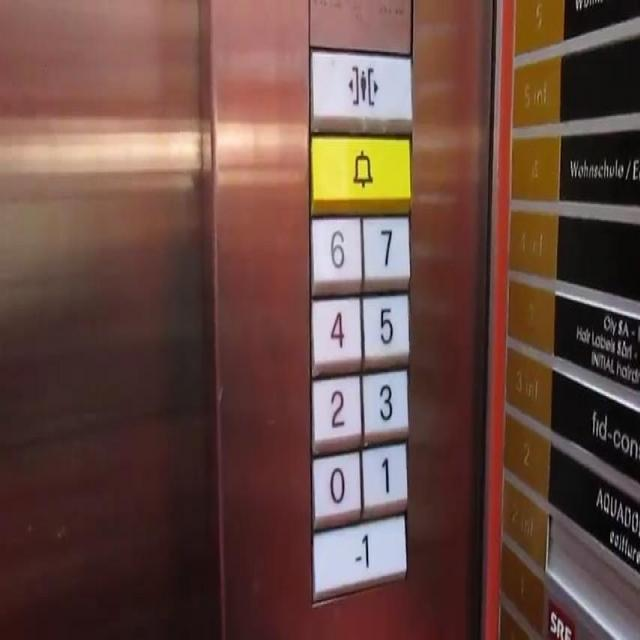-1: (308, 509, 408, 604)
0: (310, 448, 364, 527)
1: (358, 437, 412, 516)
2: (307, 370, 363, 454)
3: (359, 364, 411, 443)
4: (307, 289, 363, 375)
5: (361, 287, 412, 368)
6: (306, 205, 362, 292)
7: (358, 204, 414, 291)
alarm: (304, 124, 411, 213)
open: (304, 38, 417, 134)
